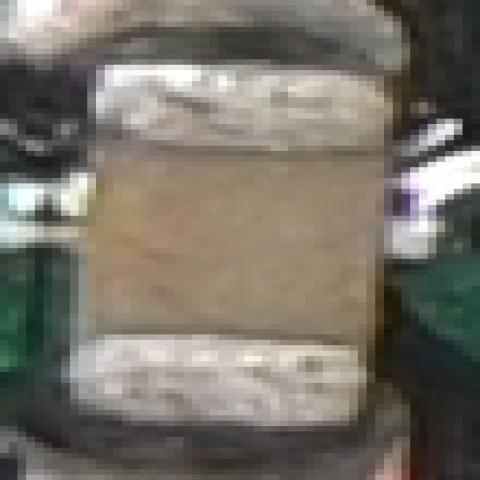Capacitor: (77, 62, 384, 434)
